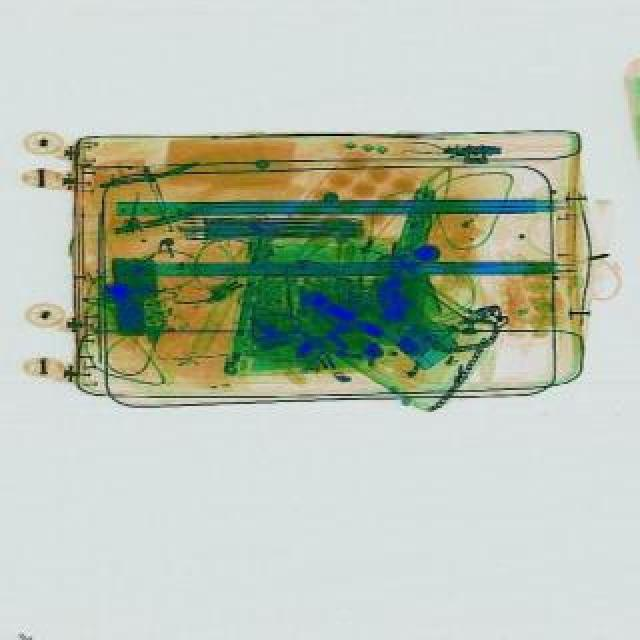wrench: (236, 288, 308, 356)
